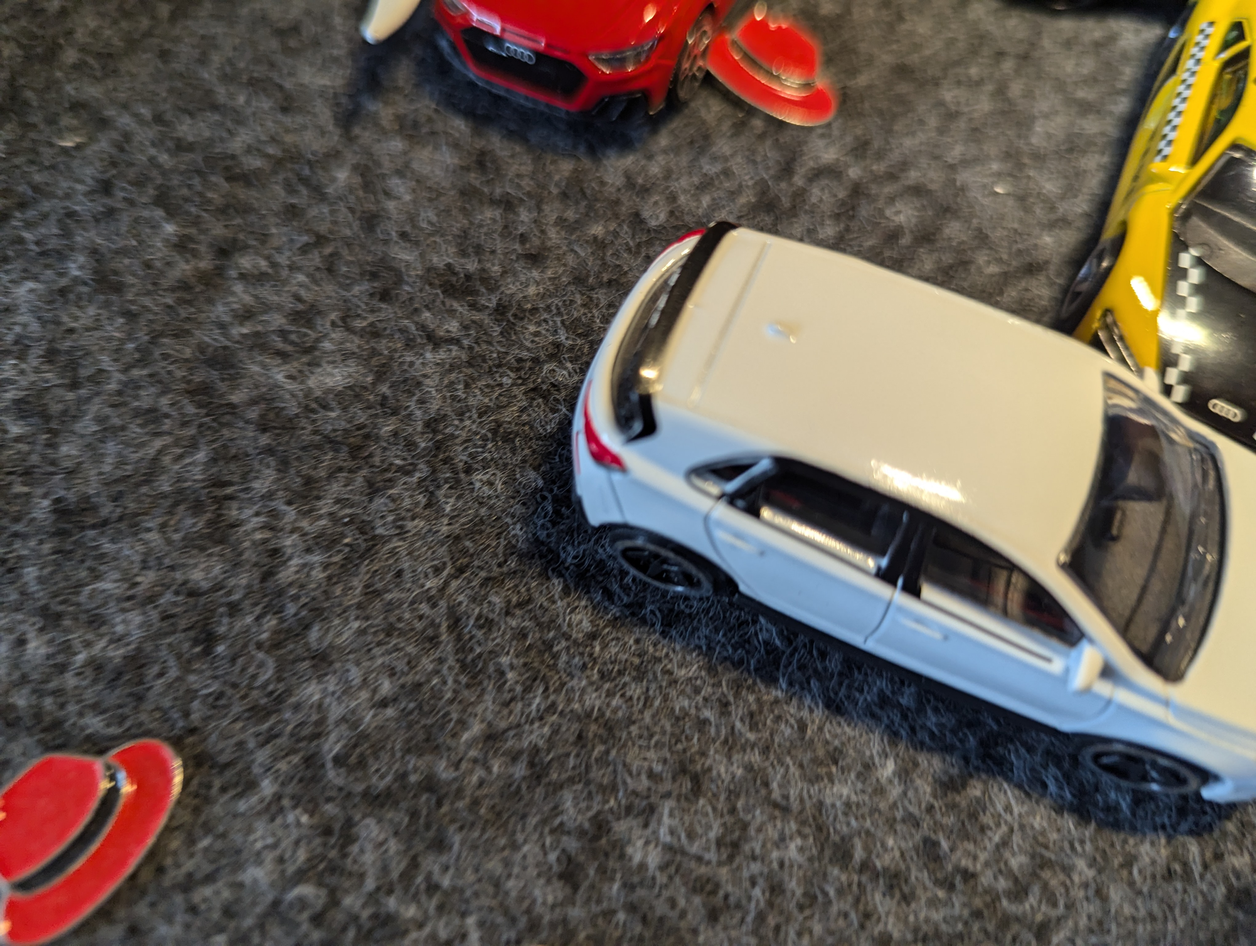Car: (558, 202, 1256, 874), (1060, 0, 1256, 470), (405, 0, 765, 166)
Red-Hat: (0, 721, 214, 946), (680, 16, 867, 143)
